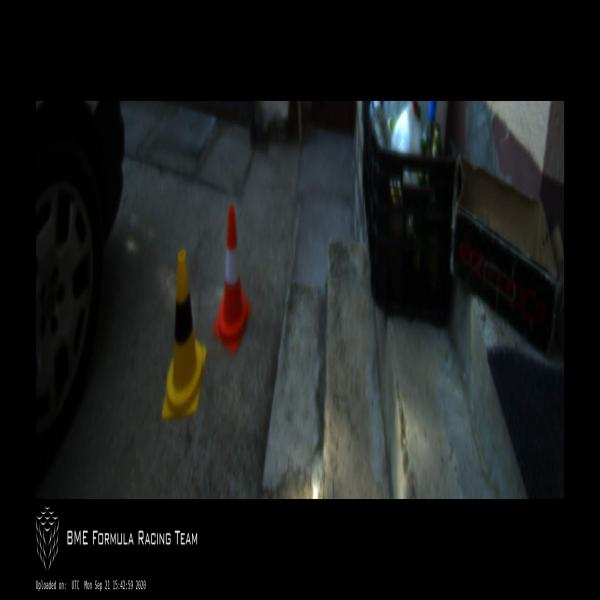orange_cone: (212, 205, 252, 355)
yellow_cone: (161, 252, 206, 421)
